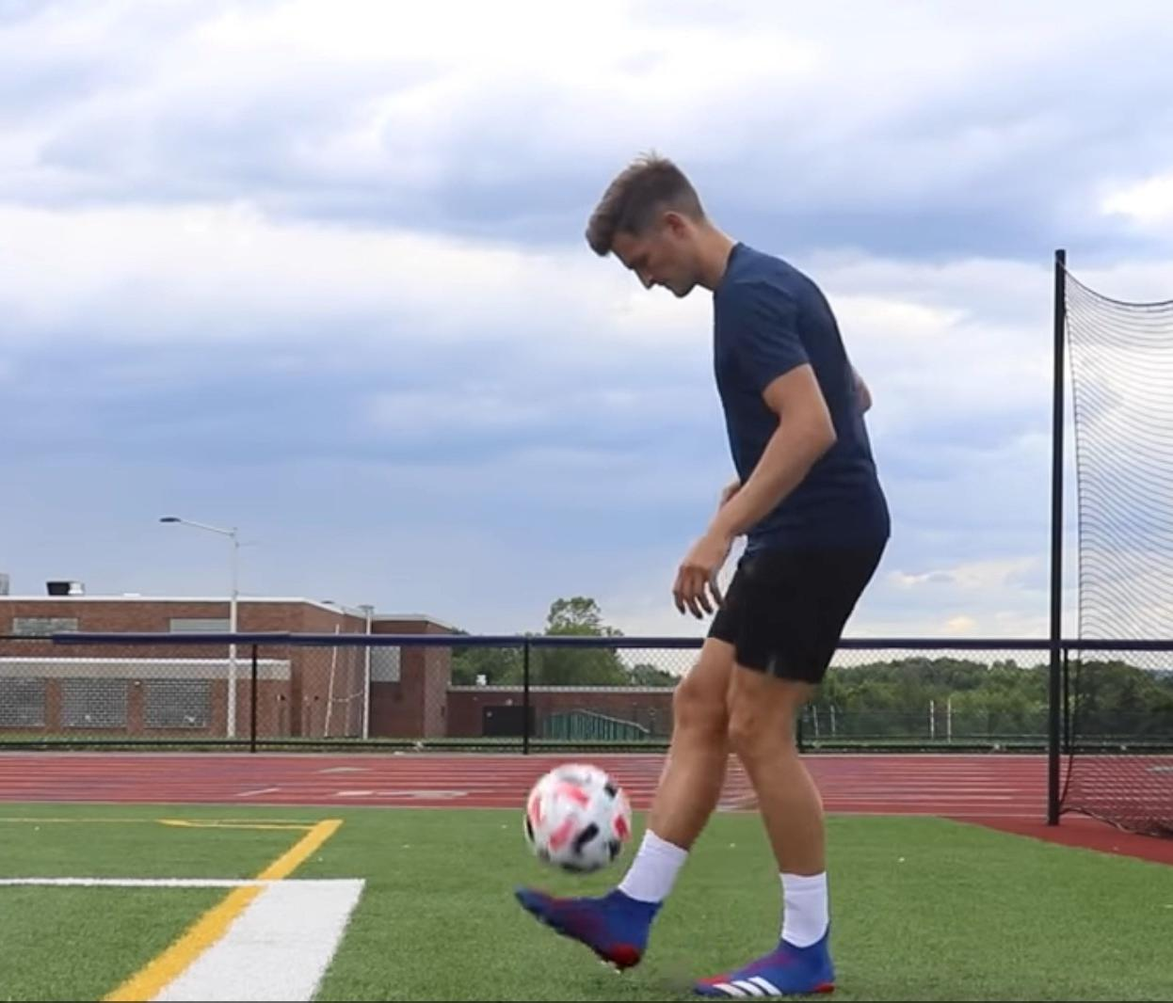ball: (522, 762, 632, 872)
foot: (513, 885, 669, 972), (692, 920, 838, 1003)
person: (514, 134, 894, 1003)
